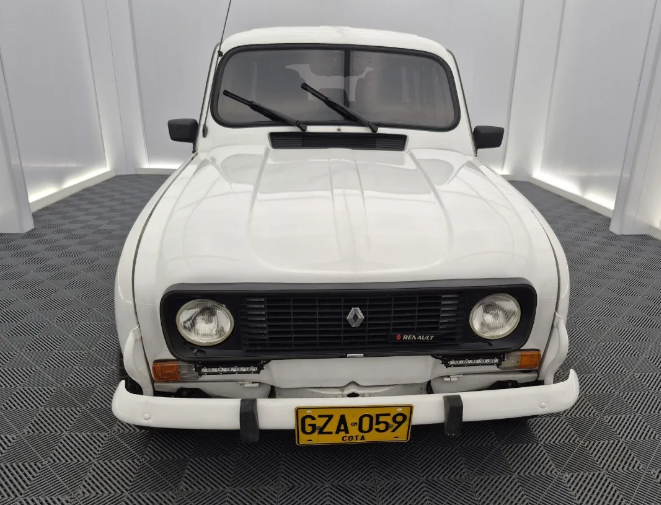placa: (294, 409, 413, 444)
